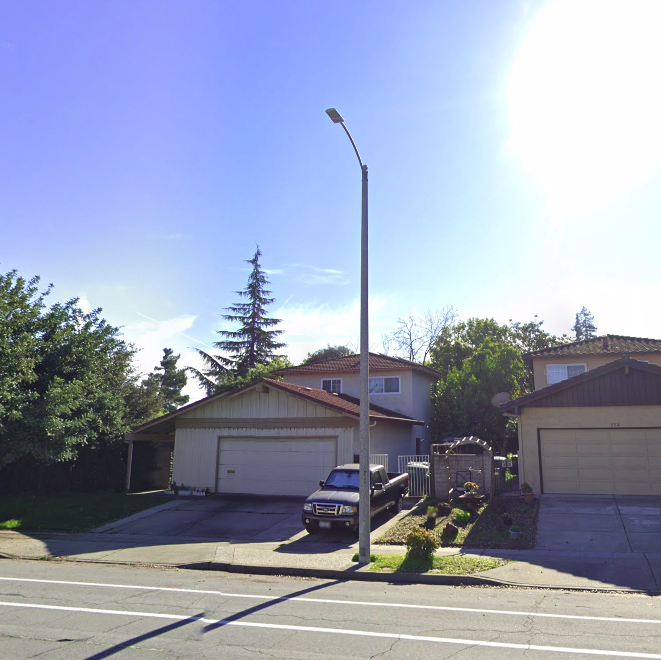pole: (317, 101, 379, 336)
